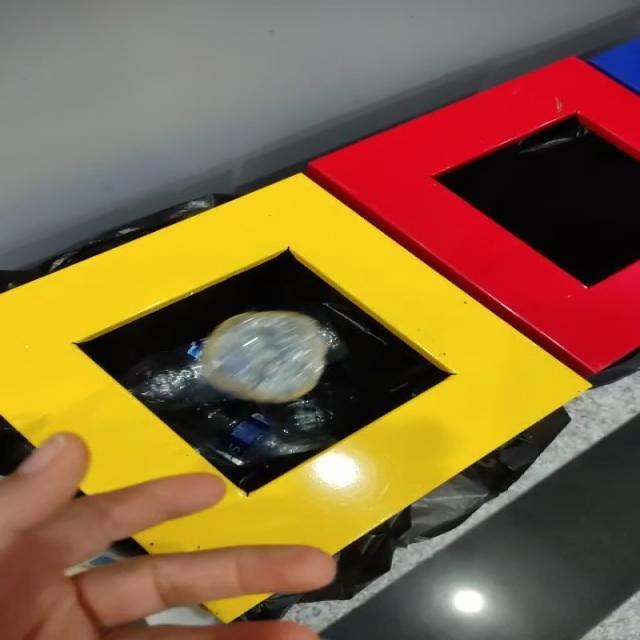Plastic: (200, 311, 331, 404)
